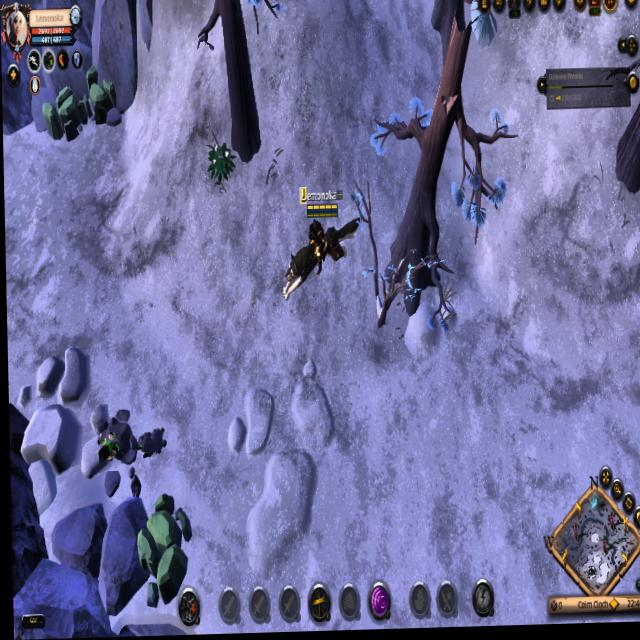fiber tier 3: (206, 137, 236, 193)
rock tier 3: (134, 489, 189, 600), (41, 86, 86, 142), (82, 65, 116, 130)
